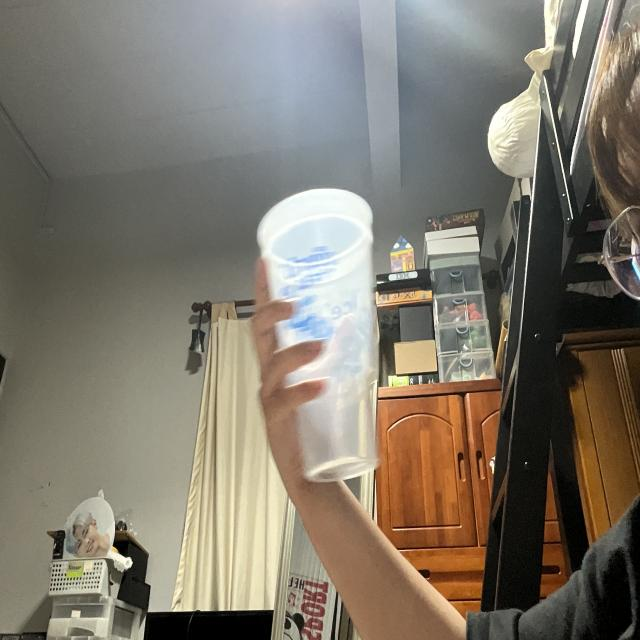cup: (258, 186, 382, 484)
